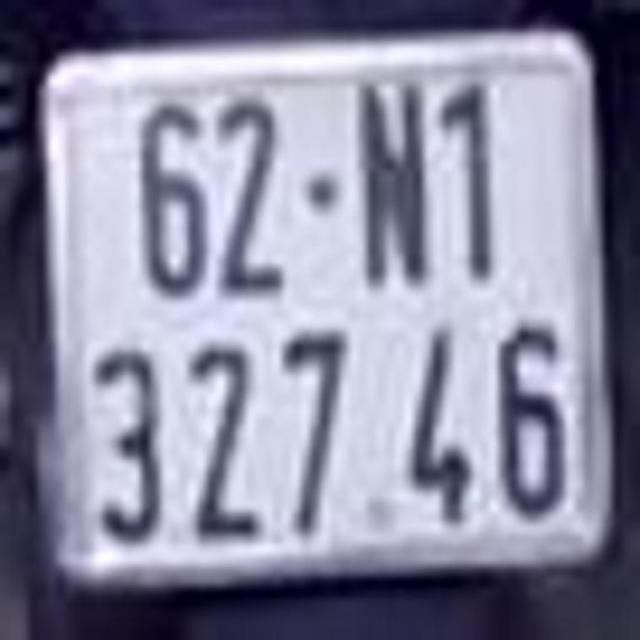1: (442, 83, 506, 272)
2: (183, 342, 260, 532), (218, 100, 290, 286)
3: (96, 347, 163, 536)
4: (416, 329, 478, 521)
6: (497, 329, 575, 514), (140, 104, 208, 288)
7: (282, 333, 346, 524)
N: (359, 83, 428, 279)
